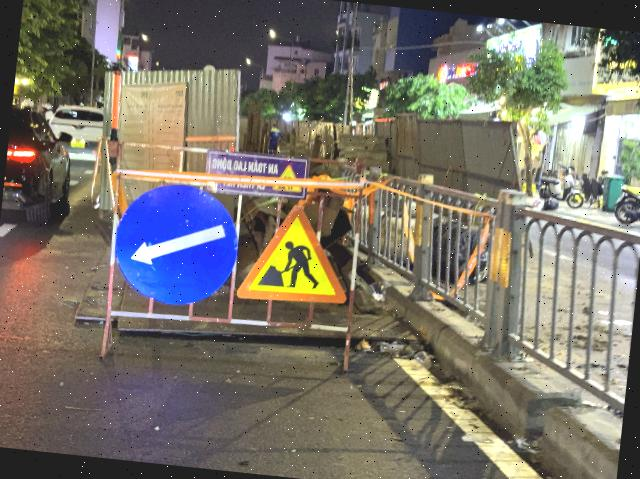cong-truong-dang-thi-cong: (237, 200, 356, 308)
huong-phai-di-vong-chuong-ngai-vat: (109, 178, 245, 310)
